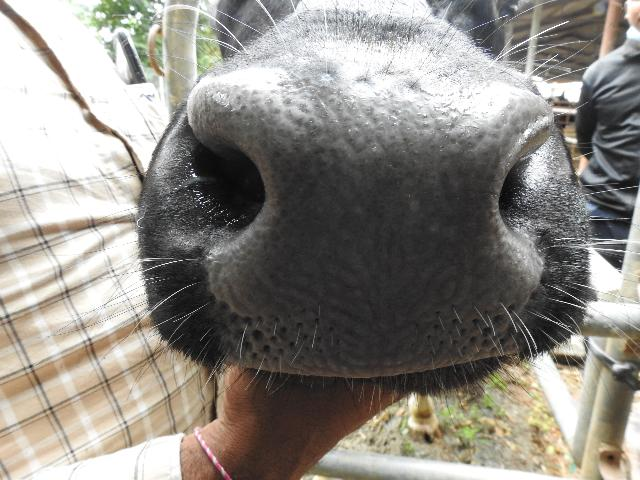Muzzle: (270, 87, 498, 364)
